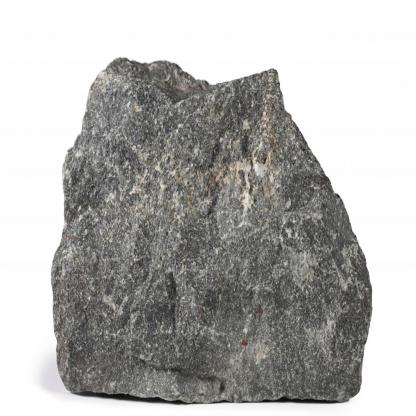Igneous_Granite: (47, 36, 378, 416)
